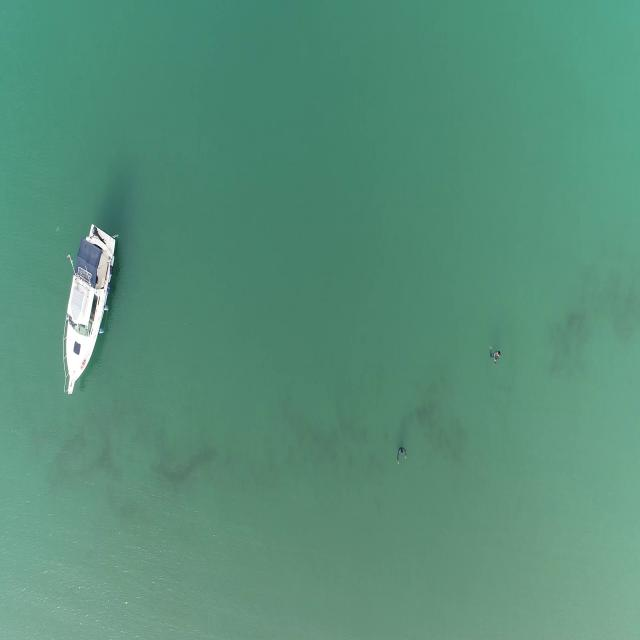boat: (59, 224, 120, 398)
person: (395, 445, 409, 468), (489, 345, 501, 368)
